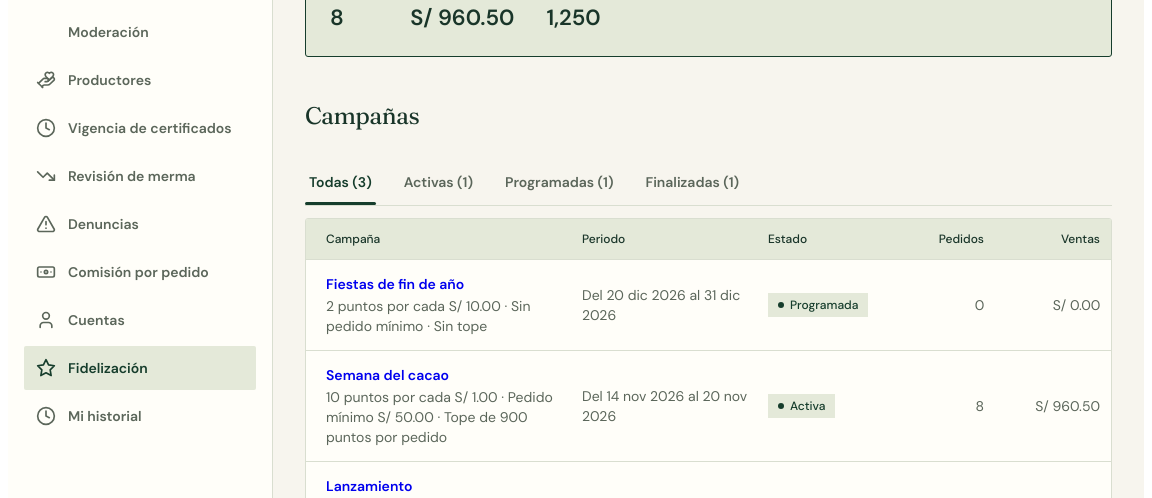
Fidelización del sub administrador (CCPIP-86) › filtra las campañas por estado y solo deja editar las que aún no empiezan
(page scrolled)
What coordinates should you click on to do the following:
click the tab "Finalizadas (1)"
I would click on:
 (692, 183)
Its box is [642,162,743,205].
(page scrolled)
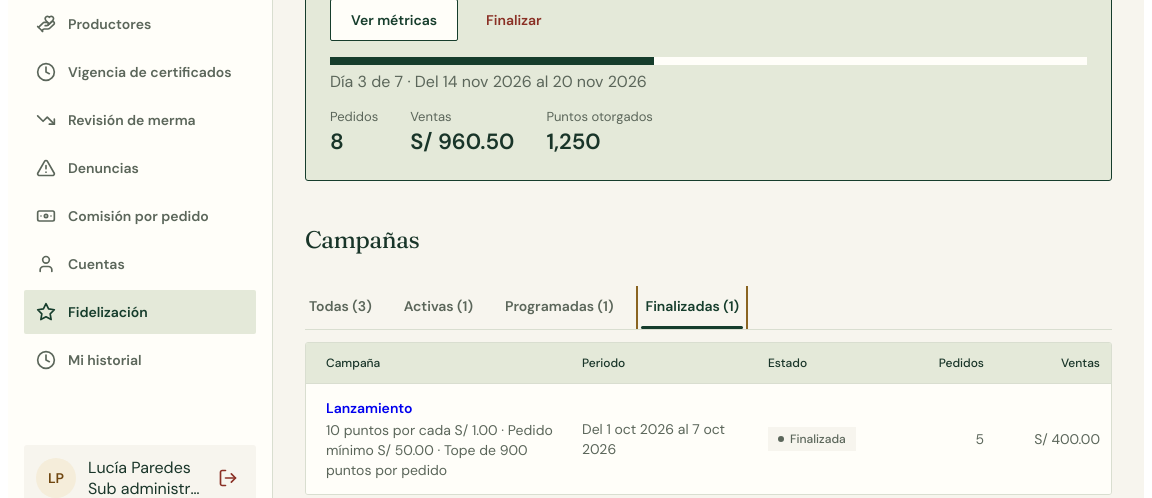
Expected: the link "Lanzamiento" is shown, [326,399,412,417]
Expected: the number of rows is 2, [306,343,1111,383]; [306,383,1111,494]
